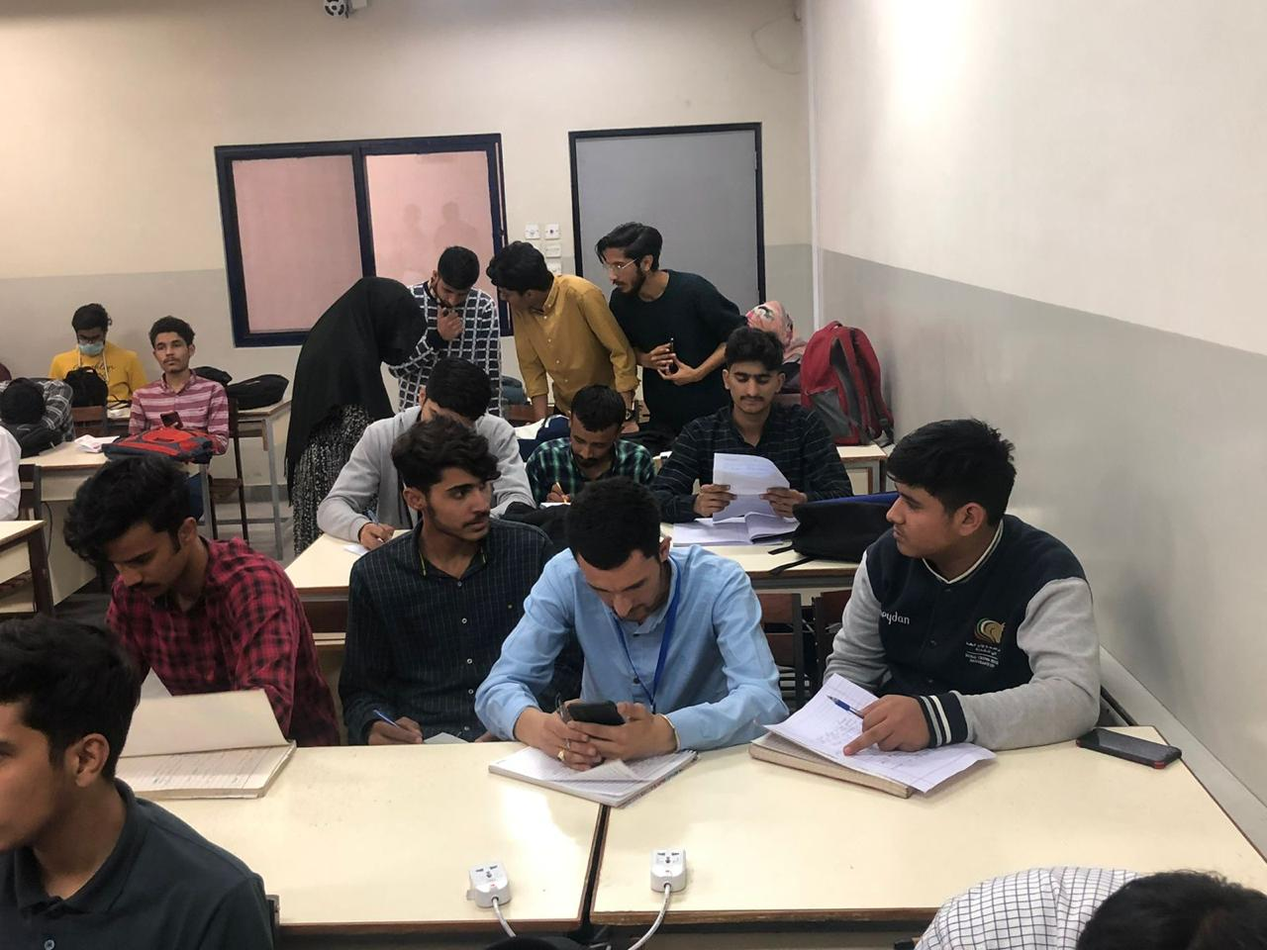non-cheating: (65, 456, 199, 599), (564, 480, 674, 626), (568, 384, 626, 468), (429, 244, 482, 308), (148, 315, 197, 375), (71, 302, 113, 358)
phone: (549, 695, 660, 773), (160, 410, 187, 433)
